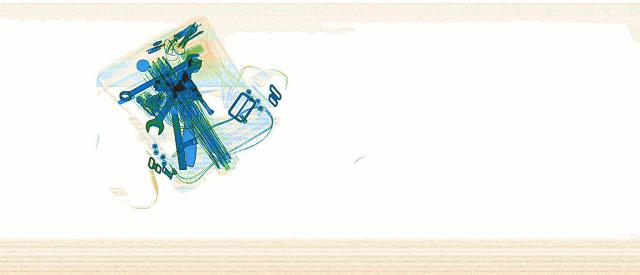Gun: (139, 70, 221, 117)
Knife: (172, 96, 200, 165)
Wrench: (139, 57, 207, 134), (108, 52, 208, 100)
